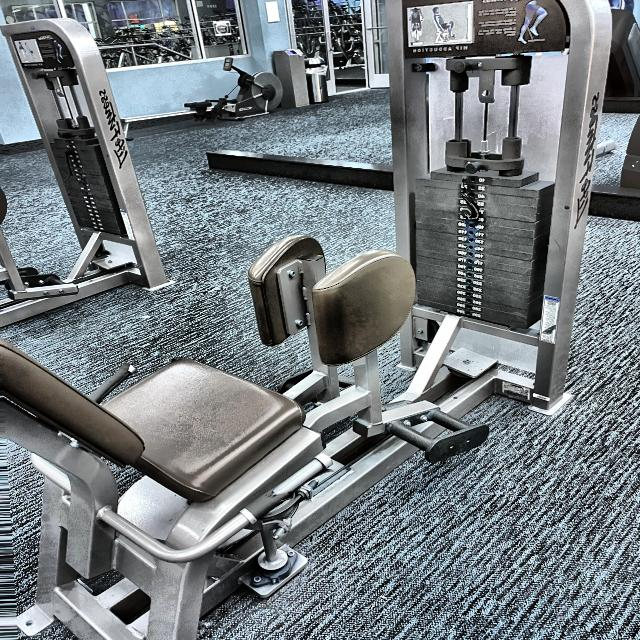hip_adduction_machine: (197, 212, 503, 517), (402, 0, 570, 56), (409, 43, 473, 54)
